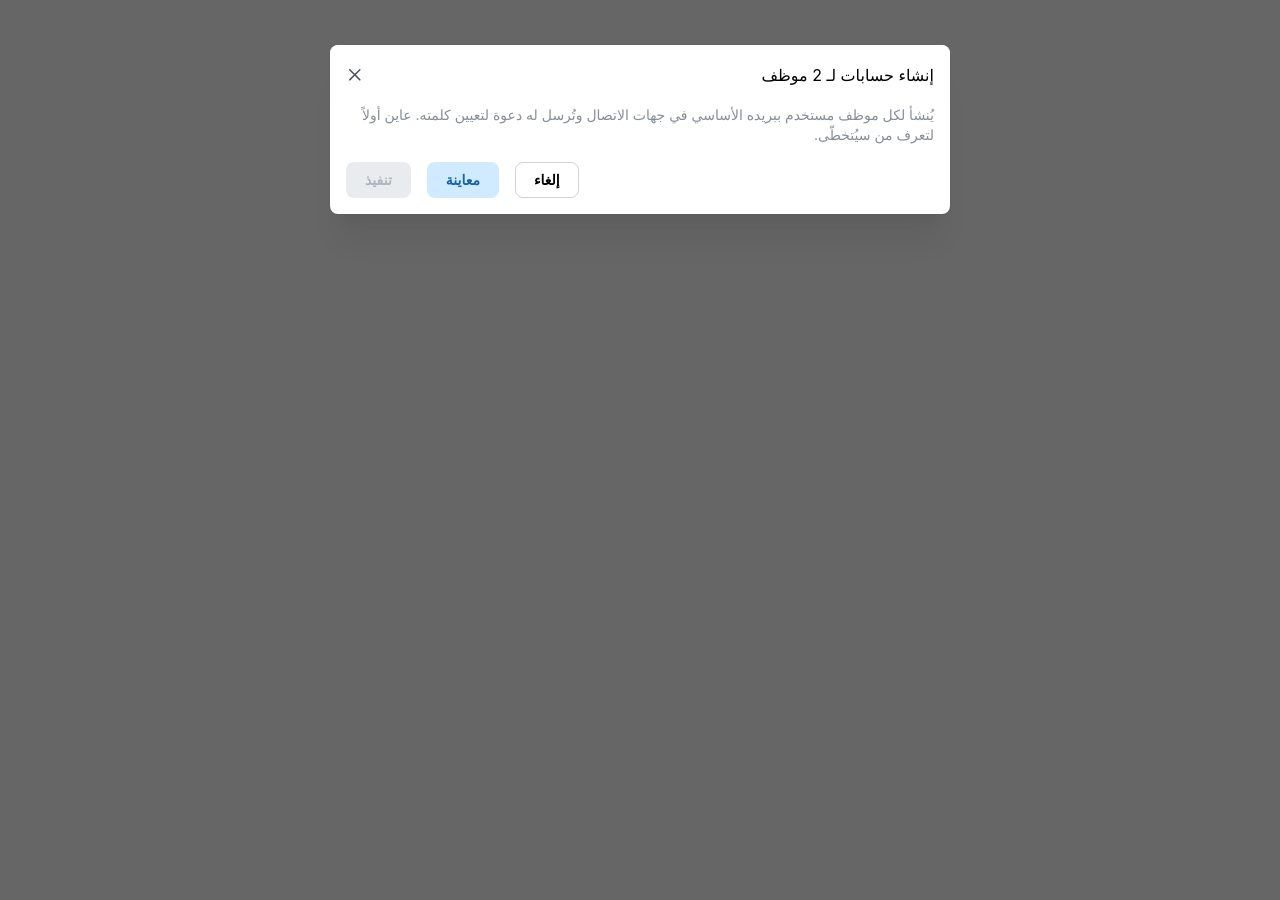
إنشاء حسابات بالجملة › التنفيذ معطّل قبل المعاينة، ثم المعاينة تعرض النتيجة لكل موظف، ثم التنفيذ يرسل dryRun=false
Check: the button "تنفيذ" is disabled, box top-left (346, 162), bottom-right (411, 198)
Click the button "معاينة" at (463, 180), box top-left (427, 162), bottom-right (499, 198)
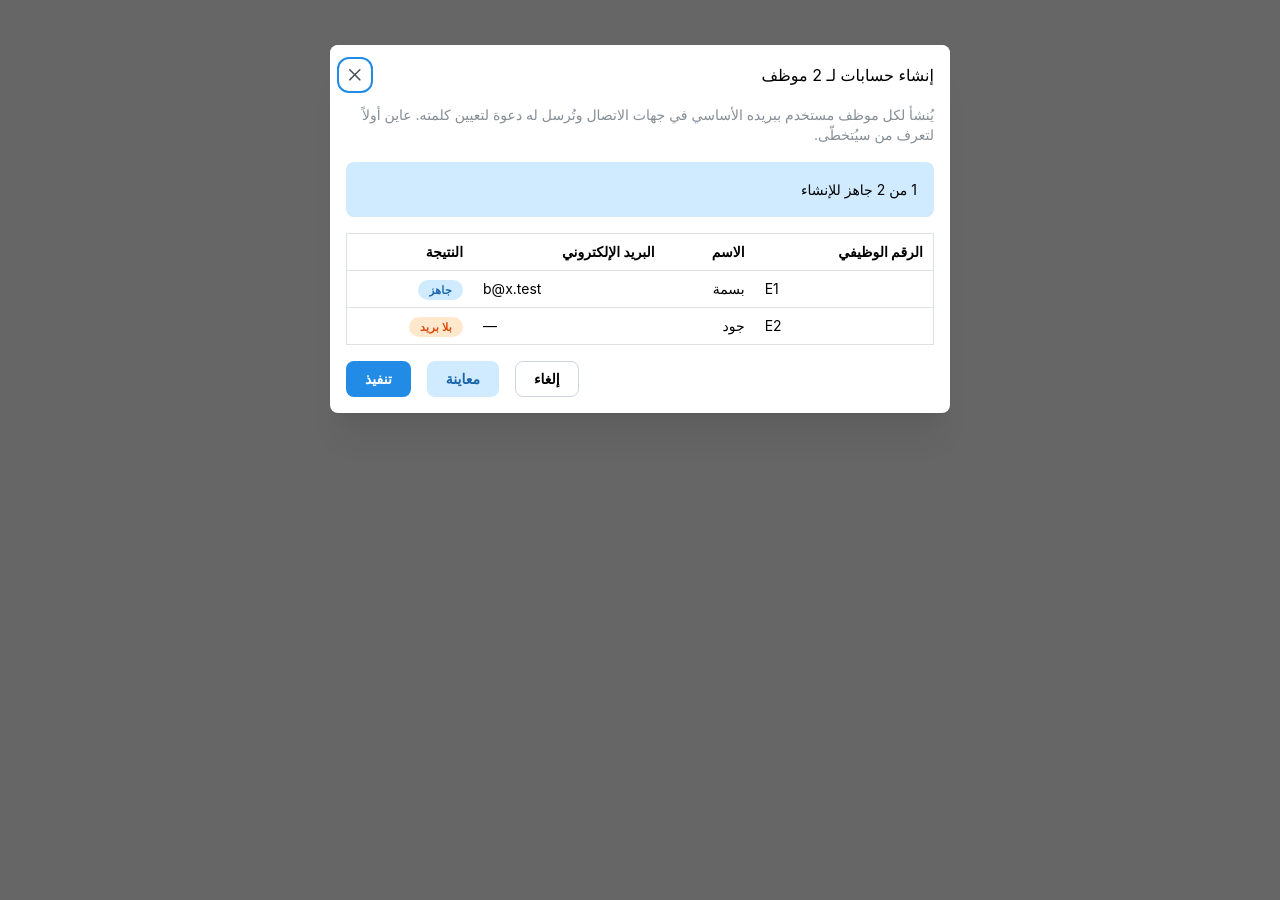
Check: the text "بلا بريد" is shown, box top-left (420, 318), bottom-right (452, 336)
Check: the button "تنفيذ" is enabled
Click the button "تنفيذ" at (378, 379), box top-left (346, 361), bottom-right (411, 397)
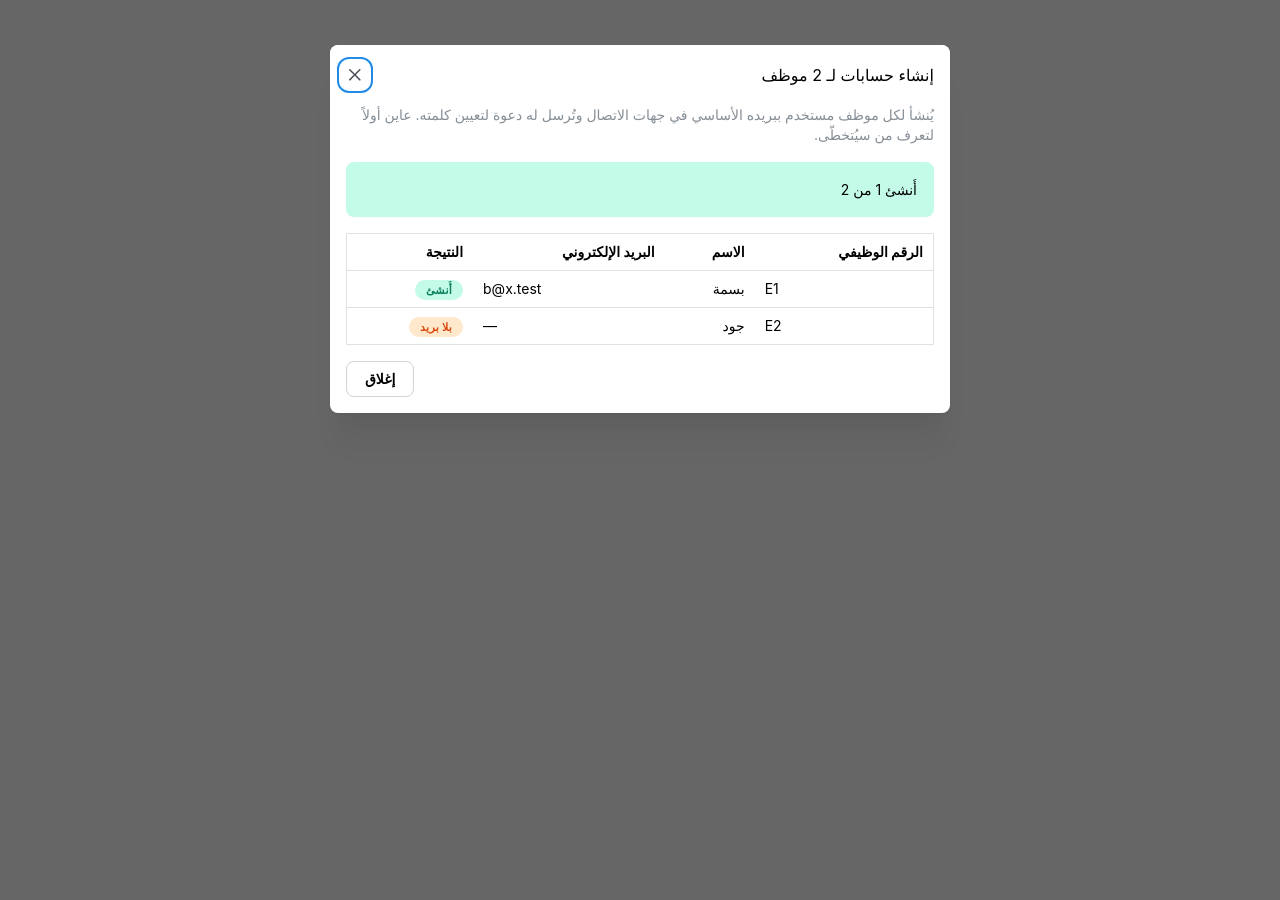
Check: the text "أُنشئ" is shown, box top-left (426, 281), bottom-right (452, 299)
